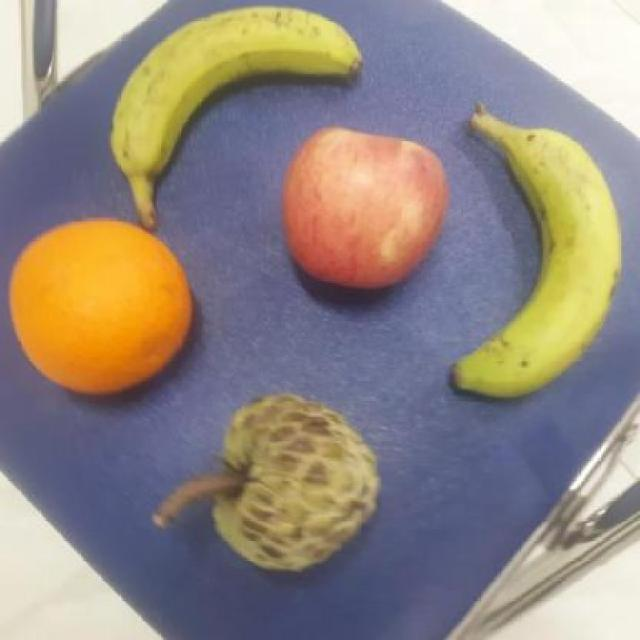apple: (278, 126, 453, 292)
banana: (103, 0, 368, 188), (471, 103, 622, 400)
oren: (2, 213, 206, 396)
sugar apple: (210, 394, 384, 578)
